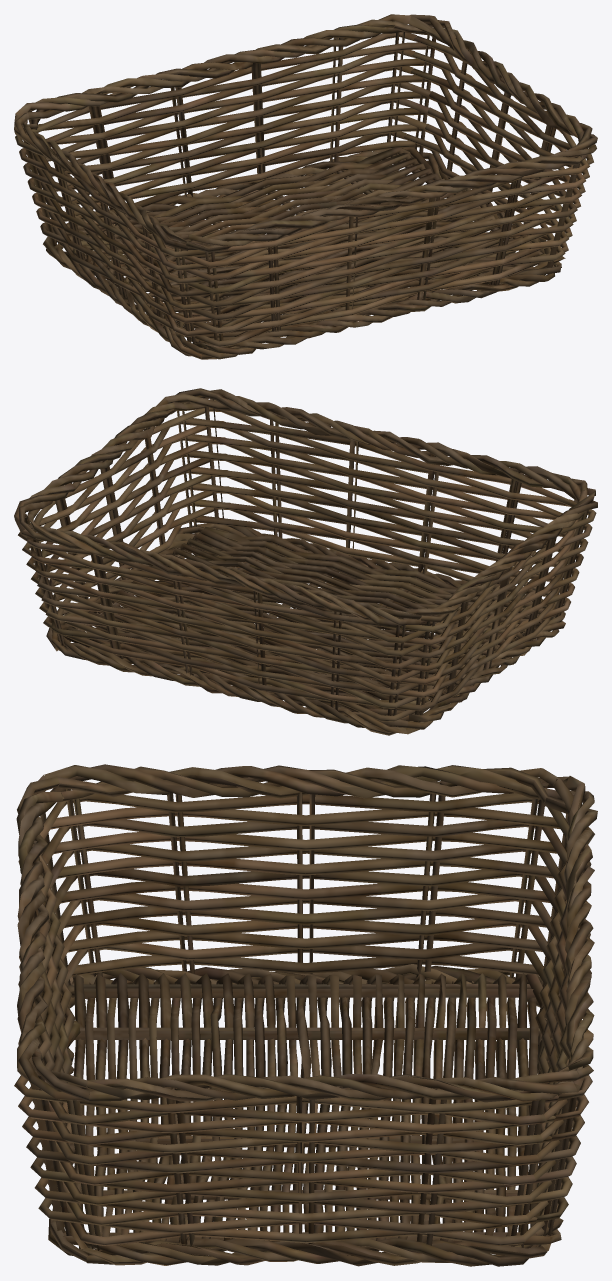
File: ph_wicker_basket_01.glb
3 views of the same model, one above another, from view 1: azimuth 30°, elevation 25°; view 2: azimuth 150°, elevation 25°; view 3: azimuth 270°, elevation 25° (orthographic). The views are drawn at different scales.
Visible parts, largest first — view 1: wicker_basket_01; view 2: wicker_basket_01; view 3: wicker_basket_01.
Boxes of the visible parts, bbox=[...] form: wicker_basket_01: bbox=[14, 14, 597, 359]; wicker_basket_01: bbox=[14, 388, 597, 735]; wicker_basket_01: bbox=[14, 764, 597, 1266].
Size of the model in its own units: 0.3834 by 0.118 by 0.2948.
1 material, 1 textured.
